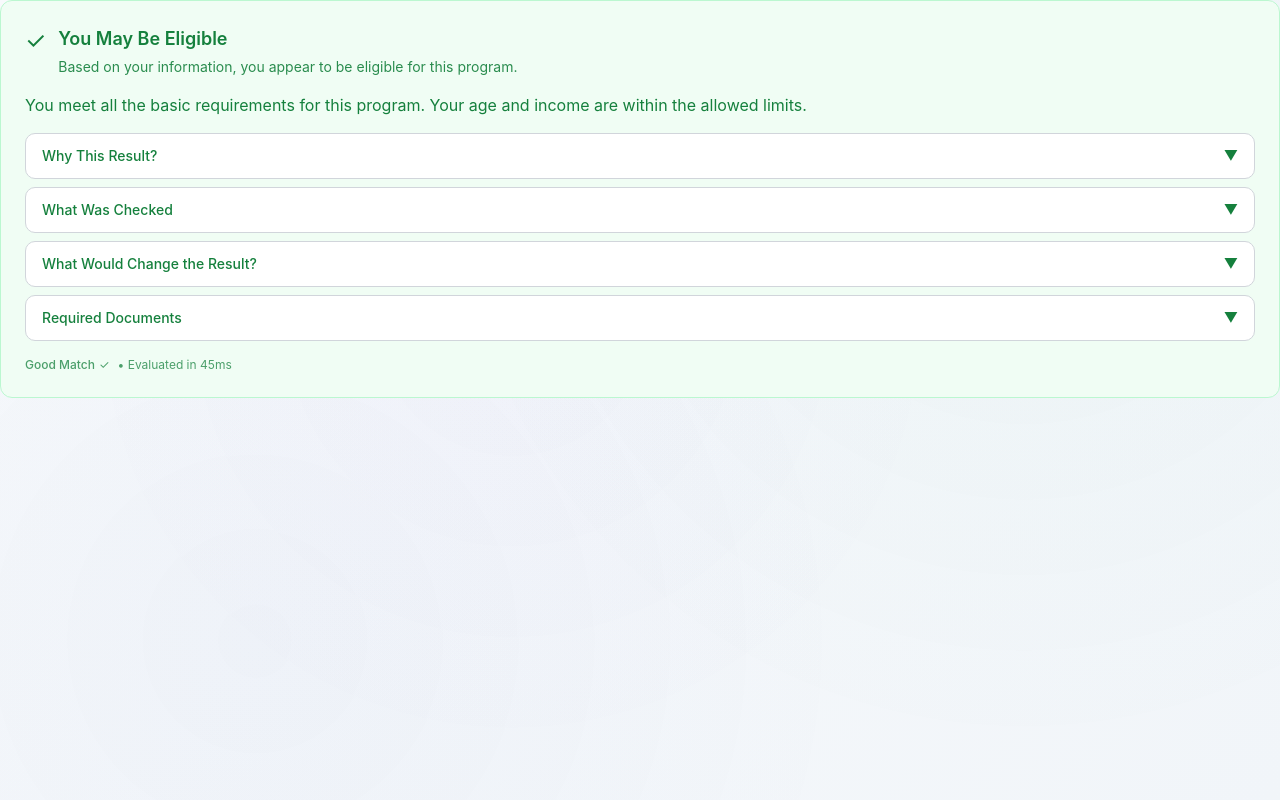
EligibilityResultExplanation › Accordion Functionality › renders criteria section when available
Note: Click to expand the criteria section
Click the text "What Was Checked": (107, 210) top-left (42, 200), bottom-right (173, 220)
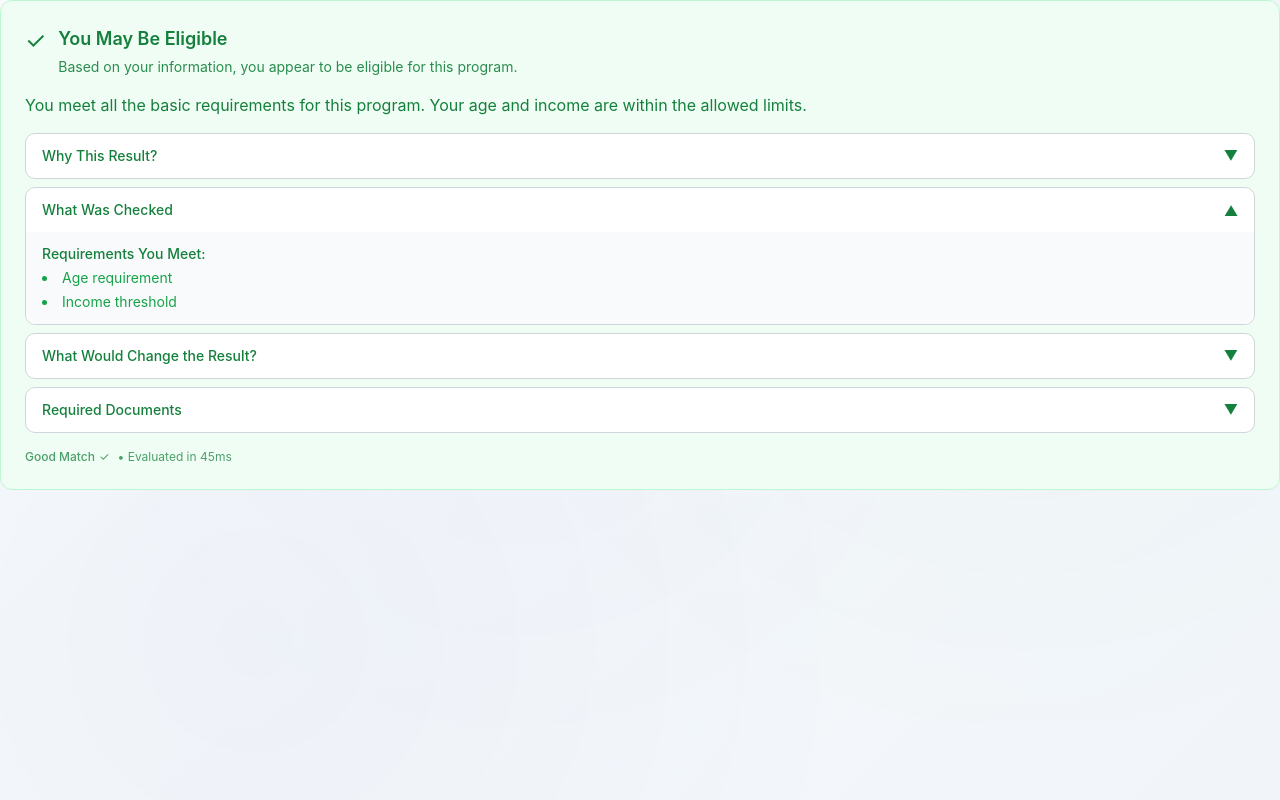
Now the text "Requirements You Meet:" is shown, box top-left (42, 245), bottom-right (206, 262)
